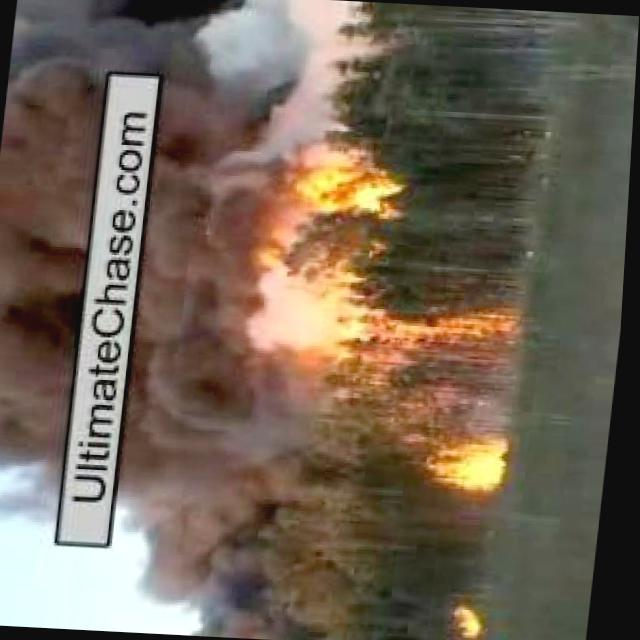Fire: (349, 290, 532, 366), (425, 423, 515, 499), (299, 157, 400, 220), (451, 599, 488, 640)
Smoke: (113, 0, 374, 640), (0, 0, 108, 505)
